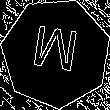M_S: (29, 25, 82, 81)
